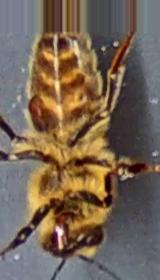varroa_mite: (18, 94, 52, 122)
